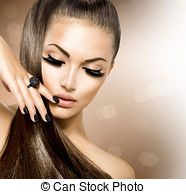face: (27, 4, 123, 127)
